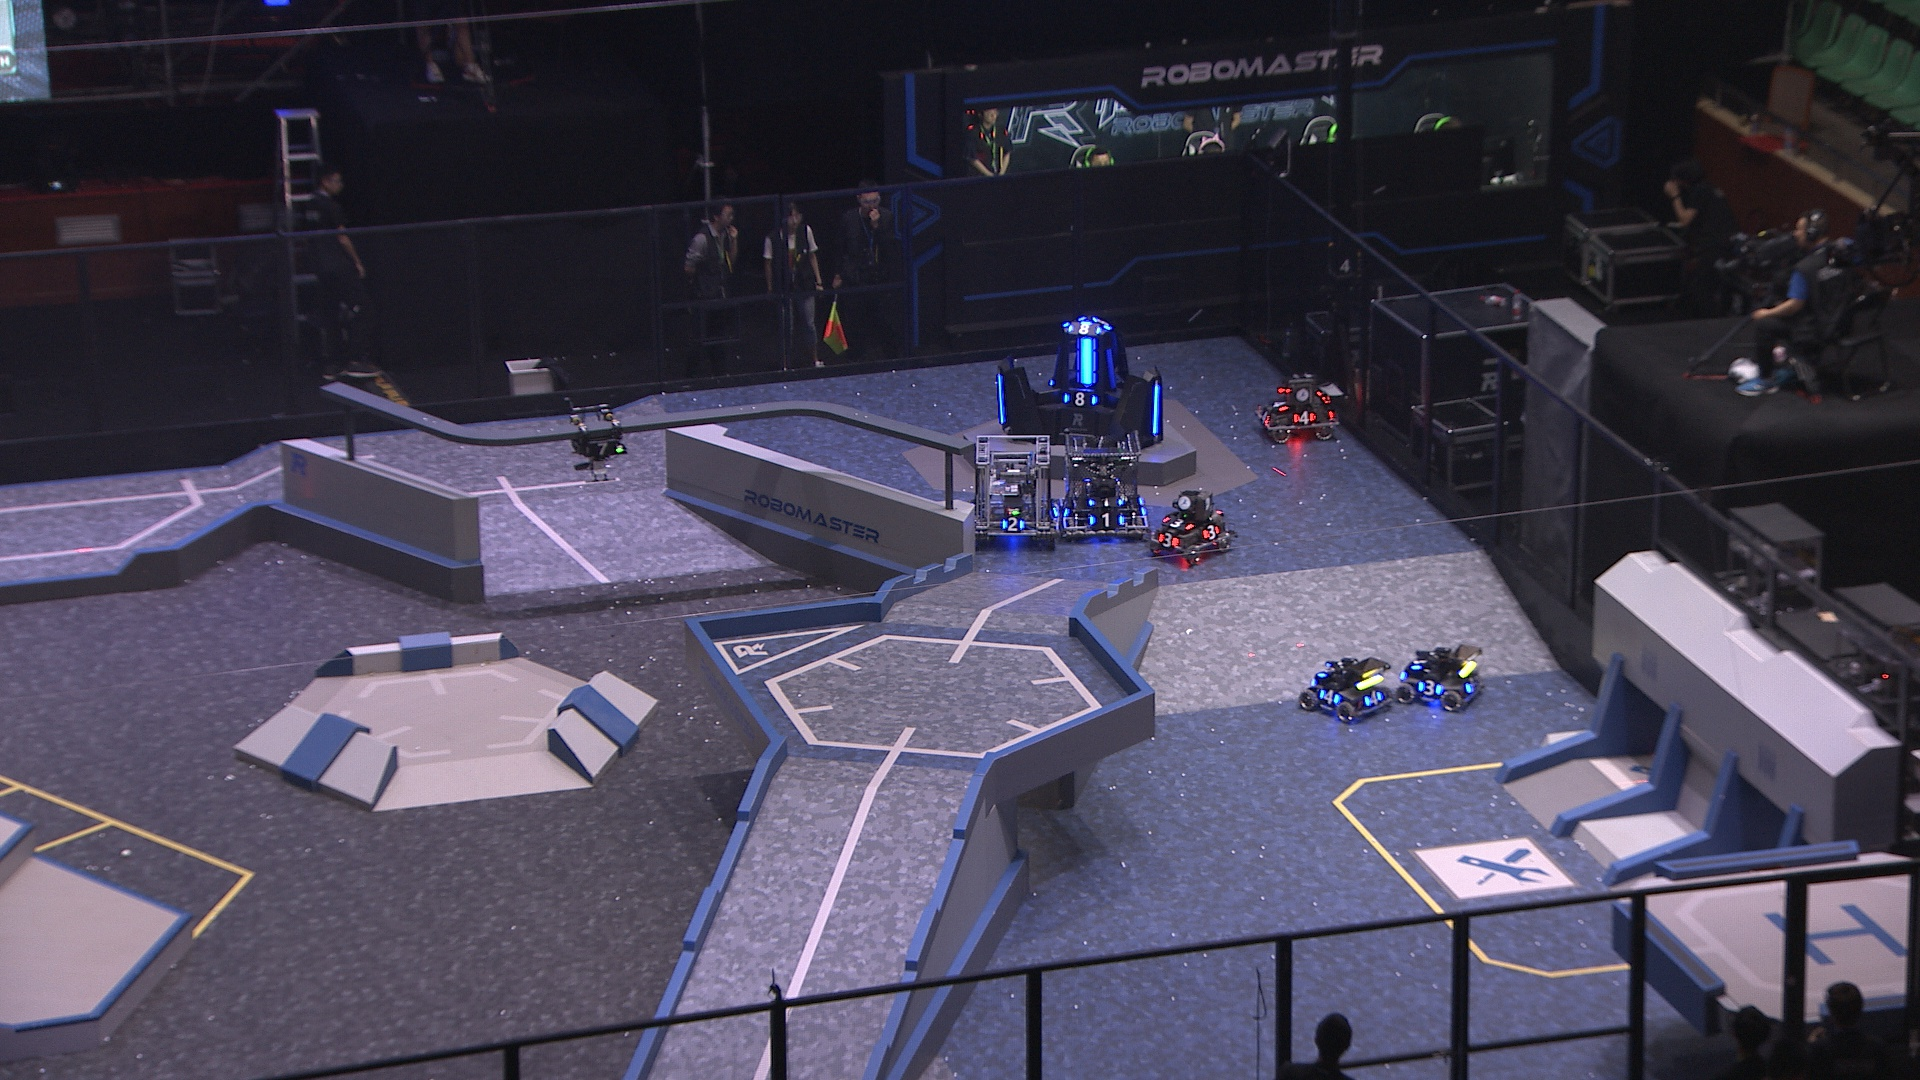armor: (1073, 335, 1100, 392), (1083, 510, 1125, 531), (582, 439, 624, 458), (1084, 495, 1126, 512), (1149, 382, 1162, 436), (996, 368, 1007, 427), (1059, 390, 1100, 407), (1067, 319, 1102, 338), (1418, 675, 1444, 698), (1163, 513, 1195, 531), (1105, 342, 1116, 392), (1291, 407, 1317, 427), (1316, 687, 1342, 707), (1153, 531, 1182, 549), (1197, 522, 1220, 543), (1361, 688, 1385, 707), (1001, 516, 1026, 533), (1313, 659, 1335, 678), (1091, 315, 1112, 332), (1257, 409, 1273, 431), (1462, 674, 1480, 694), (1269, 400, 1291, 414), (1411, 654, 1429, 670), (1048, 495, 1063, 514)
base: (992, 313, 1166, 450)
car: (965, 433, 1065, 545), (1059, 433, 1156, 541), (1394, 638, 1491, 716), (1147, 483, 1236, 567), (1298, 651, 1396, 725), (1250, 372, 1342, 446)
watcher: (560, 396, 629, 484)
